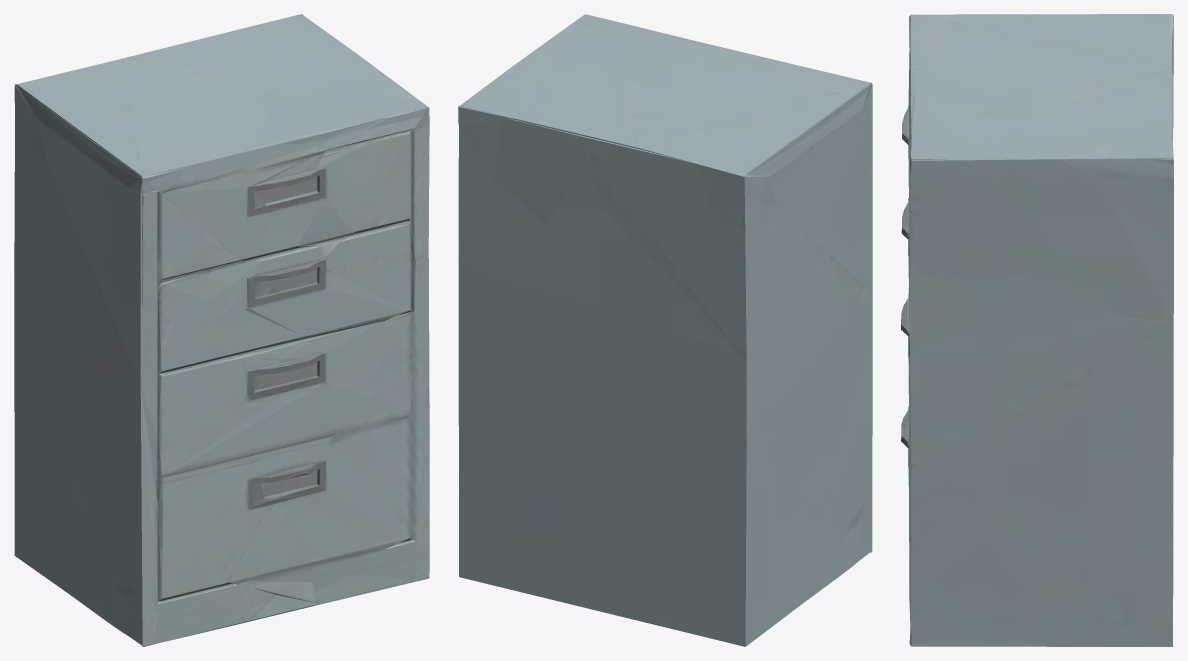
Rendered from cabinet.glb.
3 views of the same model, side by side, from view 1: azimuth 30°, elevation 25°; view 2: azimuth 150°, elevation 25°; view 3: azimuth 270°, elevation 25° (orthographic). The views are drawn at different scales.
Bounding box in the file's own units: 1.22 × 1.9 × 0.9634.
Materials: 1 (1 with a texture image).
